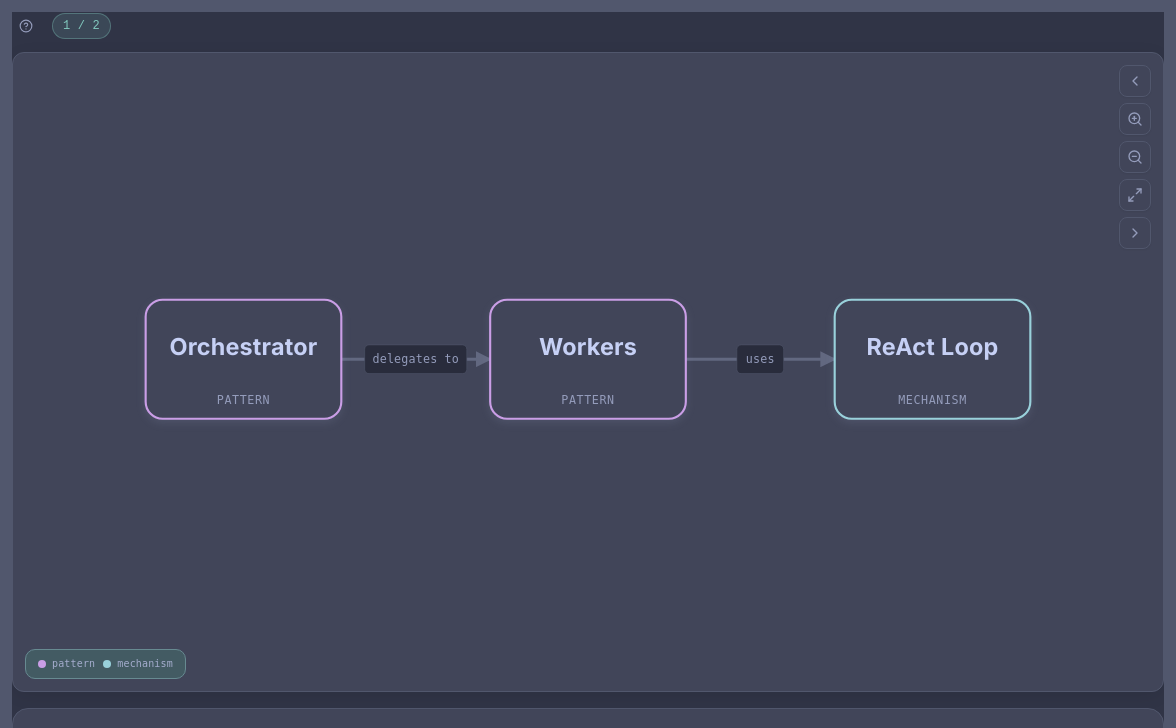
Test: ConceptMap Section › switches graph on prev button click
The width and height of the screenshot is (1176, 728).
Click the button with test id "concept-map-graph-next": (1135, 233) [1119,217,1151,249]
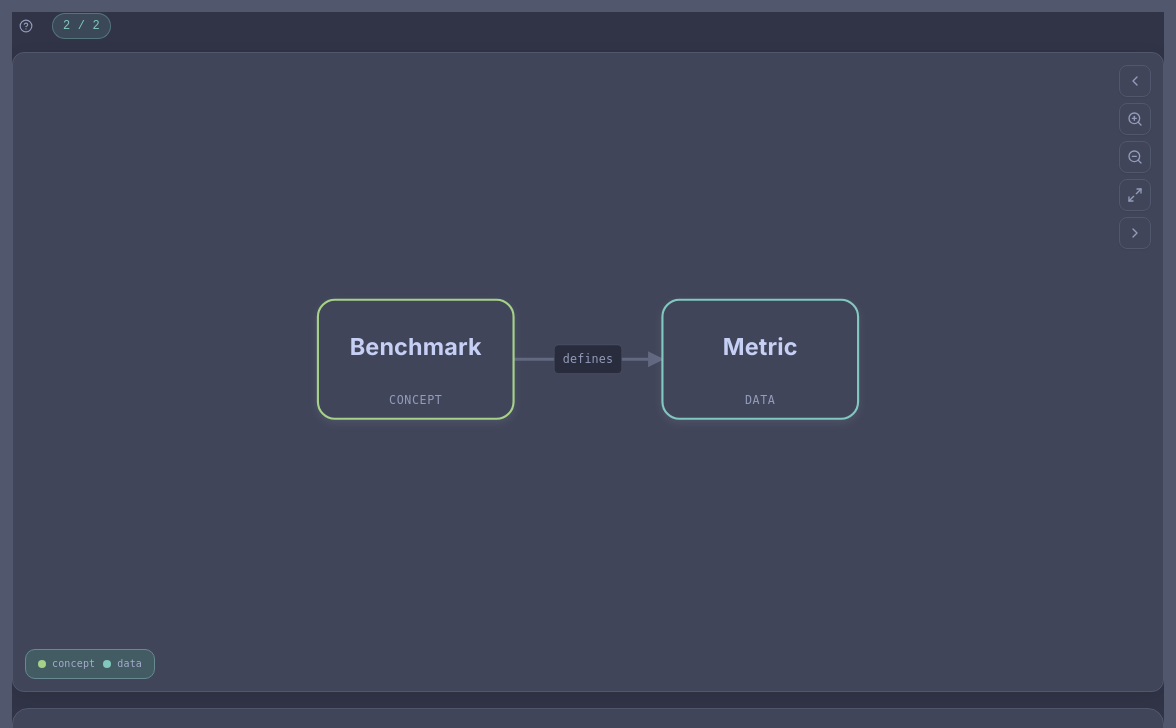
Click the button with test id "concept-map-graph-prev": (1135, 81) [1119,65,1151,97]
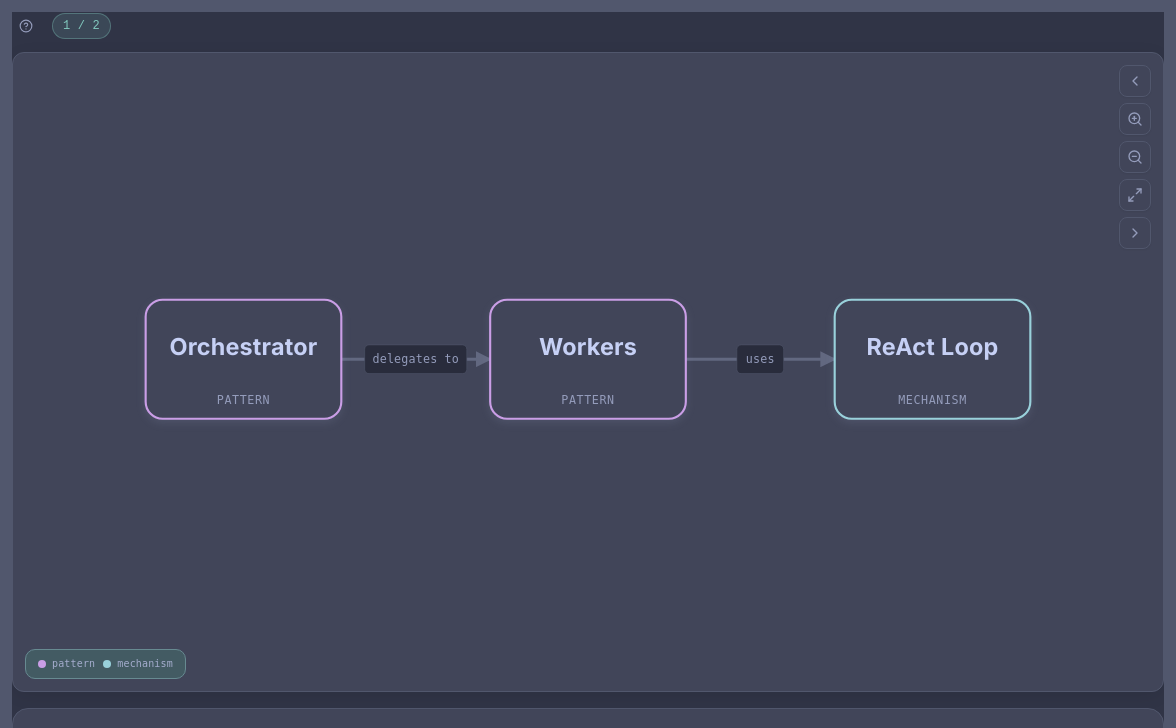
Expected: the text with test id "concept-map-graph-badge" reads "1 / 2", [52,13,111,39]
